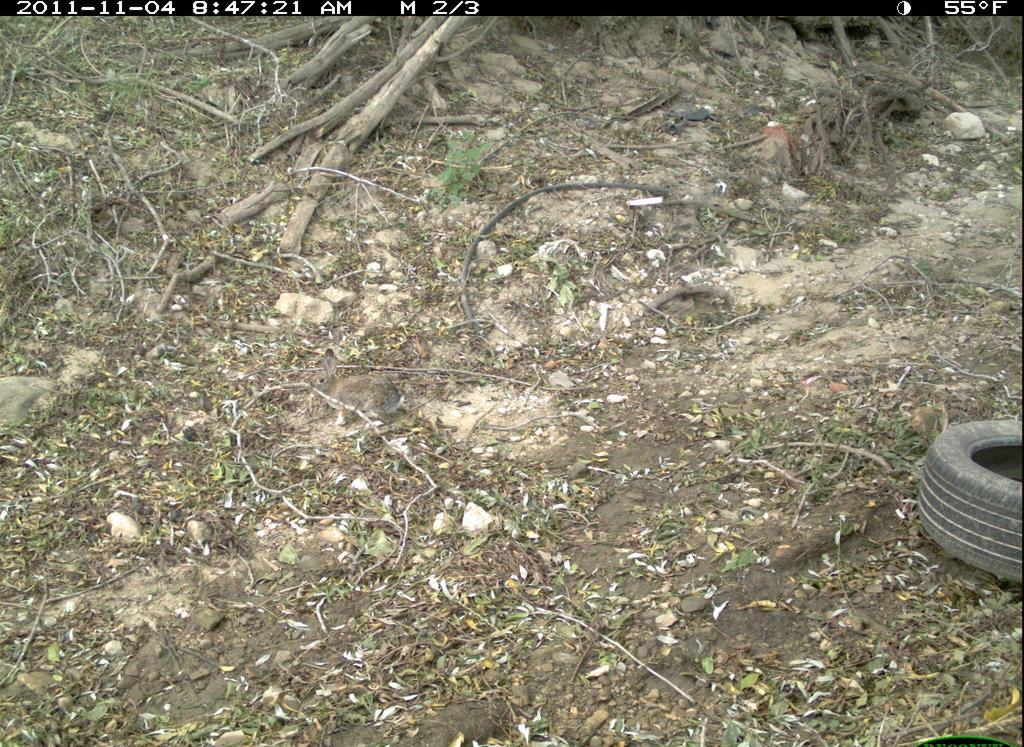rabbit: (306, 346, 420, 429)
